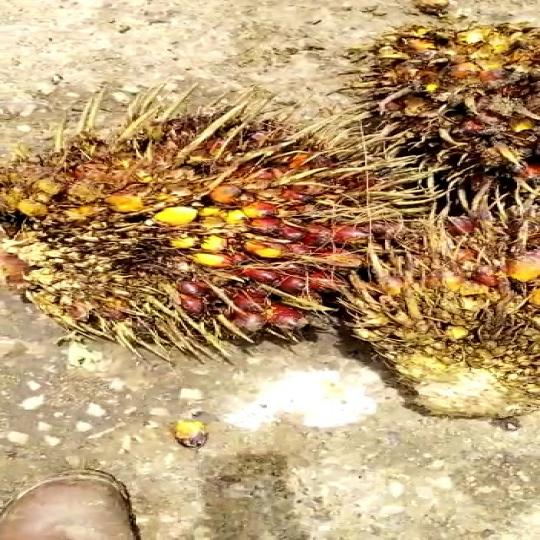masak: (0, 116, 414, 364), (357, 189, 540, 418), (329, 0, 538, 182)
